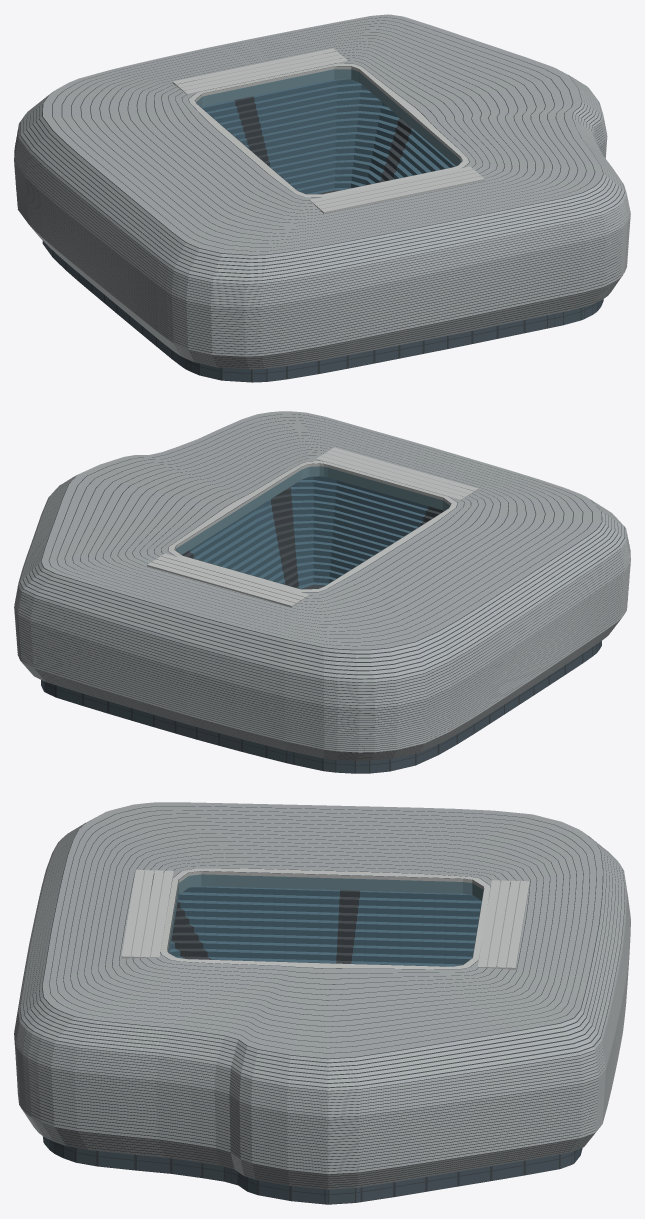
The model's file is santiago-bernabeu-near.glb.
3 renders of one model, top to bottom at view 1: azimuth 30°, elevation 25°; view 2: azimuth 150°, elevation 25°; view 3: azimuth 270°, elevation 25°, orthographic. The views are drawn at different scales.
Parts seen in each view (by area): view 1: santiago-bernabeu-0-silver, santiago-bernabeu-0-dark, santiago-bernabeu-0-seating, santiago-bernabeu-0-roof, santiago-bernabeu-0-glass, santiago-bernabeu-0-glow; view 2: santiago-bernabeu-0-silver, santiago-bernabeu-0-dark, santiago-bernabeu-0-seating, santiago-bernabeu-0-roof, santiago-bernabeu-0-glass, santiago-bernabeu-0-glow; view 3: santiago-bernabeu-0-silver, santiago-bernabeu-0-dark, santiago-bernabeu-0-seating, santiago-bernabeu-0-roof, santiago-bernabeu-0-glass, santiago-bernabeu-0-glow.
Part boxes in pixels (<box>): santiago-bernabeu-0-silver: <box>14,14,630,369</box>; santiago-bernabeu-0-dark: <box>18,17,626,382</box>; santiago-bernabeu-0-seating: <box>202,79,455,193</box>; santiago-bernabeu-0-roof: <box>172,48,484,213</box>; santiago-bernabeu-0-glass: <box>43,241,603,381</box>; santiago-bernabeu-0-glow: <box>196,69,461,165</box>; santiago-bernabeu-0-silver: <box>14,411,630,761</box>; santiago-bernabeu-0-dark: <box>18,414,624,773</box>; santiago-bernabeu-0-seating: <box>189,476,428,588</box>; santiago-bernabeu-0-roof: <box>147,447,478,607</box>; santiago-bernabeu-0-glass: <box>41,641,601,773</box>; santiago-bernabeu-0-glow: <box>175,466,449,554</box>; santiago-bernabeu-0-silver: <box>14,802,630,1189</box>; santiago-bernabeu-0-dark: <box>18,806,624,1204</box>; santiago-bernabeu-0-seating: <box>169,886,481,966</box>; santiago-bernabeu-0-roof: <box>121,868,529,969</box>; santiago-bernabeu-0-glass: <box>43,1136,582,1204</box>; santiago-bernabeu-0-glow: <box>168,874,483,952</box>.
Size of the model in its own units: 240 by 60 by 222.
